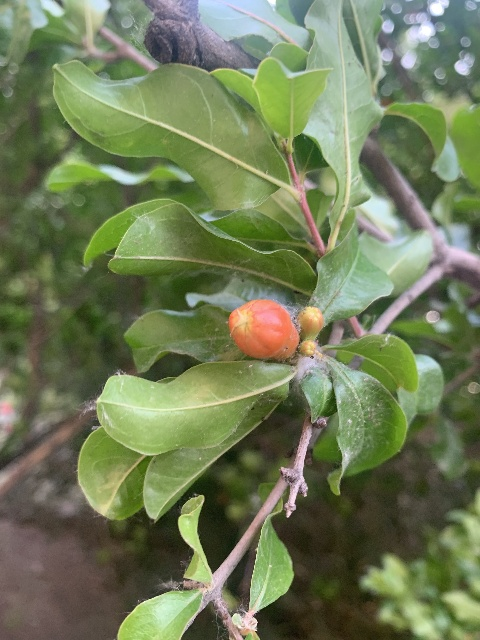bud: (228, 299, 298, 360), (298, 306, 323, 337)
